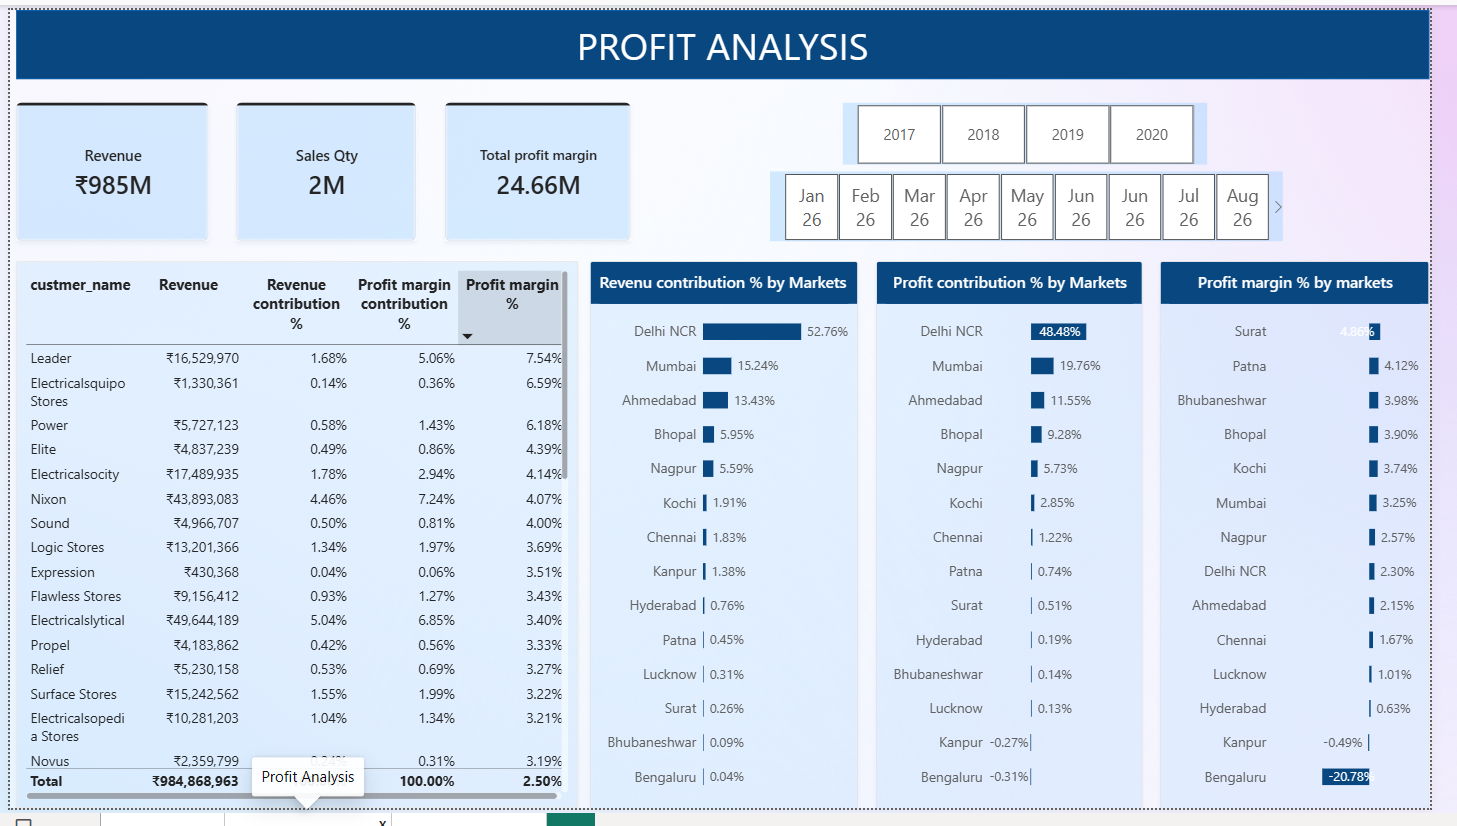

What the dashboard file says about the page in this screenshot:
{"tool":"powerbi","page":{"name":"Profit Analysis","canvas":[1920,1080],"ordinal":1},"visuals":[{"type":"shape","box":[9.2,0,1911.3,93.5],"z":0},{"type":"cardVisual","fields":{"Data":["Measure.Revenu"]},"box":[9.2,124.7,260.5,187.1],"z":1},{"type":"cardVisual","fields":{"Data":["Measure.Sales Qty"]},"box":[306.3,124.7,244,187.1],"z":2},{"type":"cardVisual","fields":{"Data":["Measure.Total  profit margin"]},"box":[588.8,124.7,251.3,187.1],"z":3},{"type":"slicer","fields":{"Values":["Sales date.year"]},"box":[1126.2,124.7,493.4,84.4],"z":4},{"type":"slicer","fields":{"Values":["Sales date.cy_date"]},"box":[1027.1,218.2,693.7,94.7],"z":5},{"type":"tableEx","fields":{"Values":["Sales customer.custmer_name","Measure.Revenu","Measure.Revenu contribution %","Measure.Profit margin contribution %","Measure.Profit margin %"]},"box":[8.2,339.6,759.5,741],"z":6},{"type":"barChart","title":"Revenu contribution % by Markets","fields":{"Category":["Sales market.markets_name"],"Y":["Measure.Revenu contribution %"]},"box":[784.2,339.6,362.3,741],"z":7},{"type":"barChart","title":"Profit  contribution % by Markets","fields":{"Category":["Sales market.markets_name"],"Y":["Measure.Profit margin contribution %"]},"box":[1171.2,339.6,360.2,741],"z":8},{"type":"barChart","title":"Profit margin % by markets","fields":{"Category":["Sales market.markets_name"],"Y":["Measure.Profit margin %"]},"box":[1556.1,339.6,364.3,741],"z":9}]}

Visuals, with their boxes on the page's 1920x1080 design canvas (x1, y1, x2, y2). These are canvas units, not pixel positions in the 1457x826 screenshot, which may show the page scaled, cropped or inside an application window:
shape: locate(9, 0, 1920, 94)
cardVisual - Measure.Revenu: locate(9, 125, 270, 312)
cardVisual - Measure.Sales Qty: locate(306, 125, 550, 312)
cardVisual - Measure.Total  profit margin: locate(589, 125, 840, 312)
slicer - Sales date.year: locate(1126, 125, 1620, 209)
slicer - Sales date.cy_date: locate(1027, 218, 1721, 313)
tableEx - Sales customer.custmer_name x Measure.Revenu: locate(8, 340, 768, 1081)
"Revenu contribution % by Markets" barChart: locate(784, 340, 1146, 1081)
"Profit  contribution % by Markets" barChart: locate(1171, 340, 1531, 1081)
"Profit margin % by markets" barChart: locate(1556, 340, 1920, 1081)
